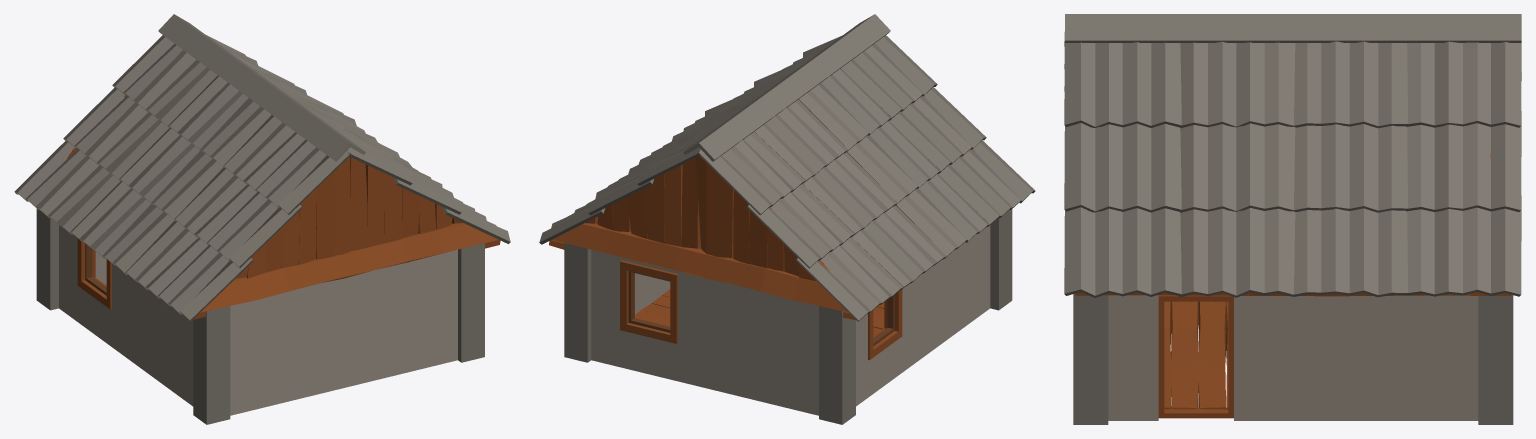
Rendered from будівля 4.fbx.
3 renders of one model, left to right at view 1: azimuth 30°, elevation 25°; view 2: azimuth 150°, elevation 25°; view 3: azimuth 270°, elevation 25°, orthographic. The views are drawn at different scales.
Visible parts, largest first — view 1: будівля 4; view 2: будівля 4; view 3: будівля 4.
Boxes of the visible parts, <box> form: будівля 4: <box>14,14,510,424</box>; будівля 4: <box>539,14,1035,424</box>; будівля 4: <box>1064,14,1521,424</box>.
Size of what is drawn, in the model's own units: 5246 by 3824 by 4894.
